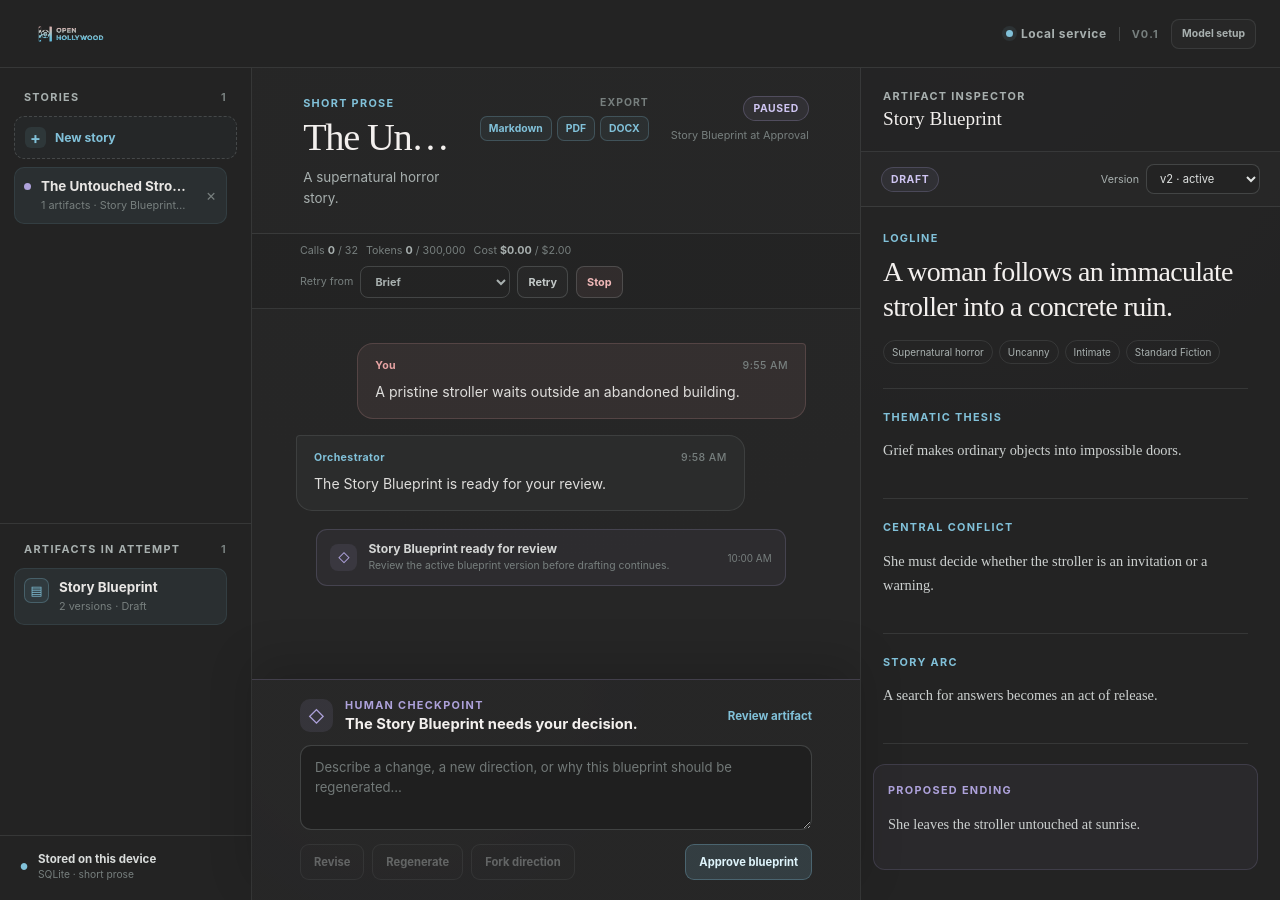
it: App › confirms and deletes a stopped story from the library
Expected: the heading "The Untouched Stroller" is shown, [303,117,452,157]
Step 1. Click the button named "Delete story The Untouched Stroller" → (211, 195), box [197,181,225,209]
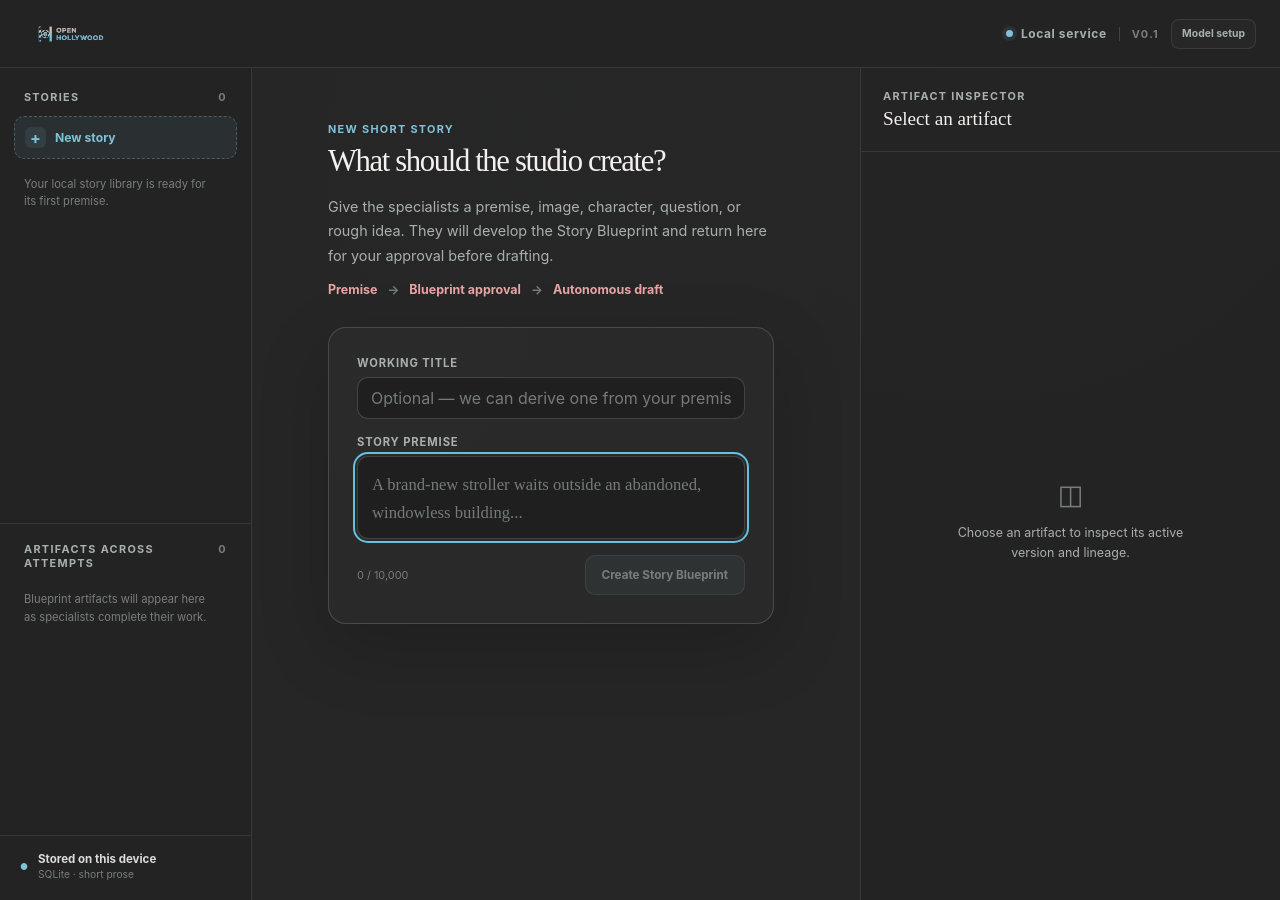
Now the heading "What should the studio create?" is shown, box [328,144,665,178]
